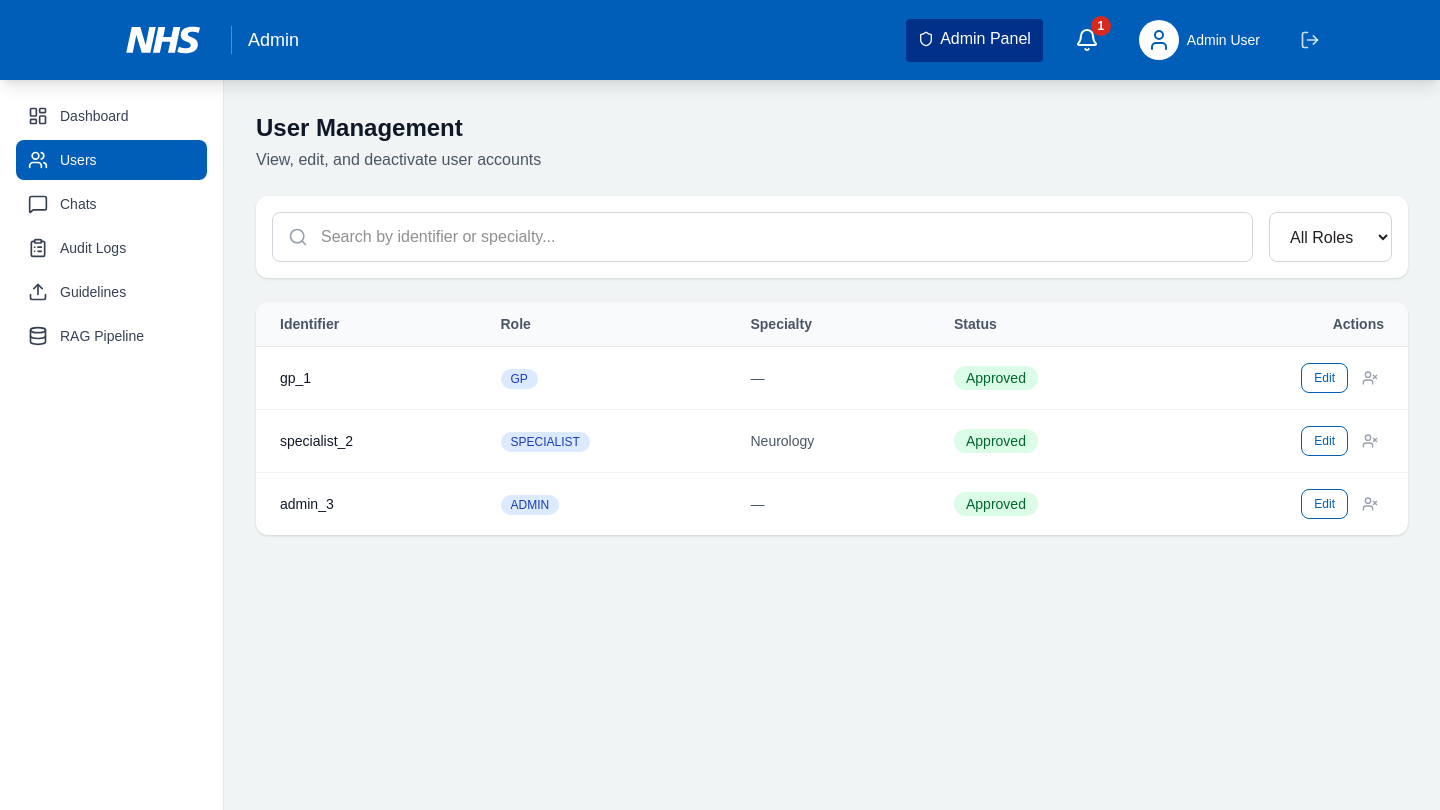
Scenario: AdminUsersPage › filters users by search term
This screenshot has width=1440, height=810.
Expected: the text "gp_1" is shown, [256, 346, 476, 410]
In the field with placeholder "Search by identifier or specialty...": [762, 237] box [272, 212, 1253, 262], type "specialist"
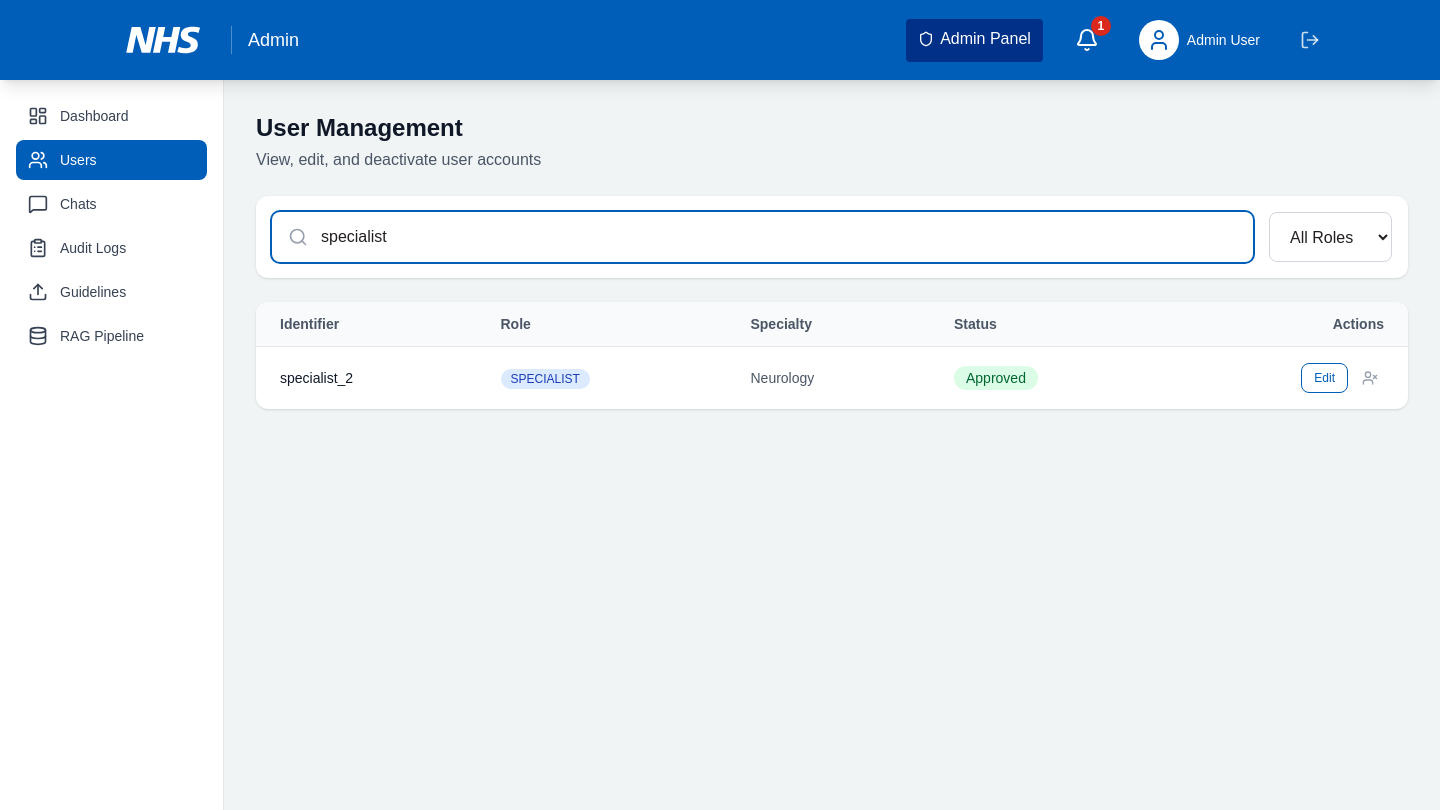
Expected: the text "specialist_2" is shown, [256, 346, 476, 409]
Expected: the text "gp_1" is gone
